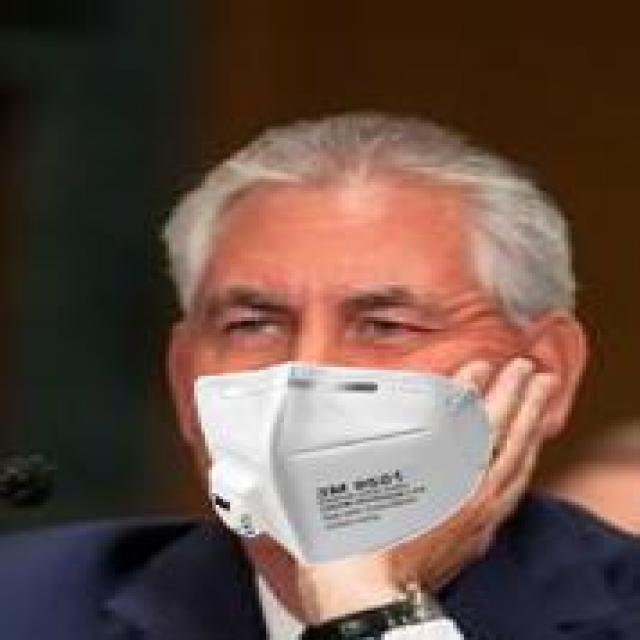mask: (136, 44, 590, 593)
